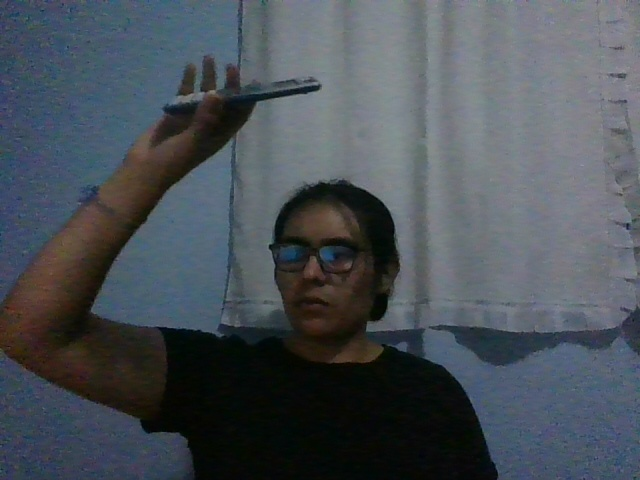calculadora: (160, 76, 323, 114)
